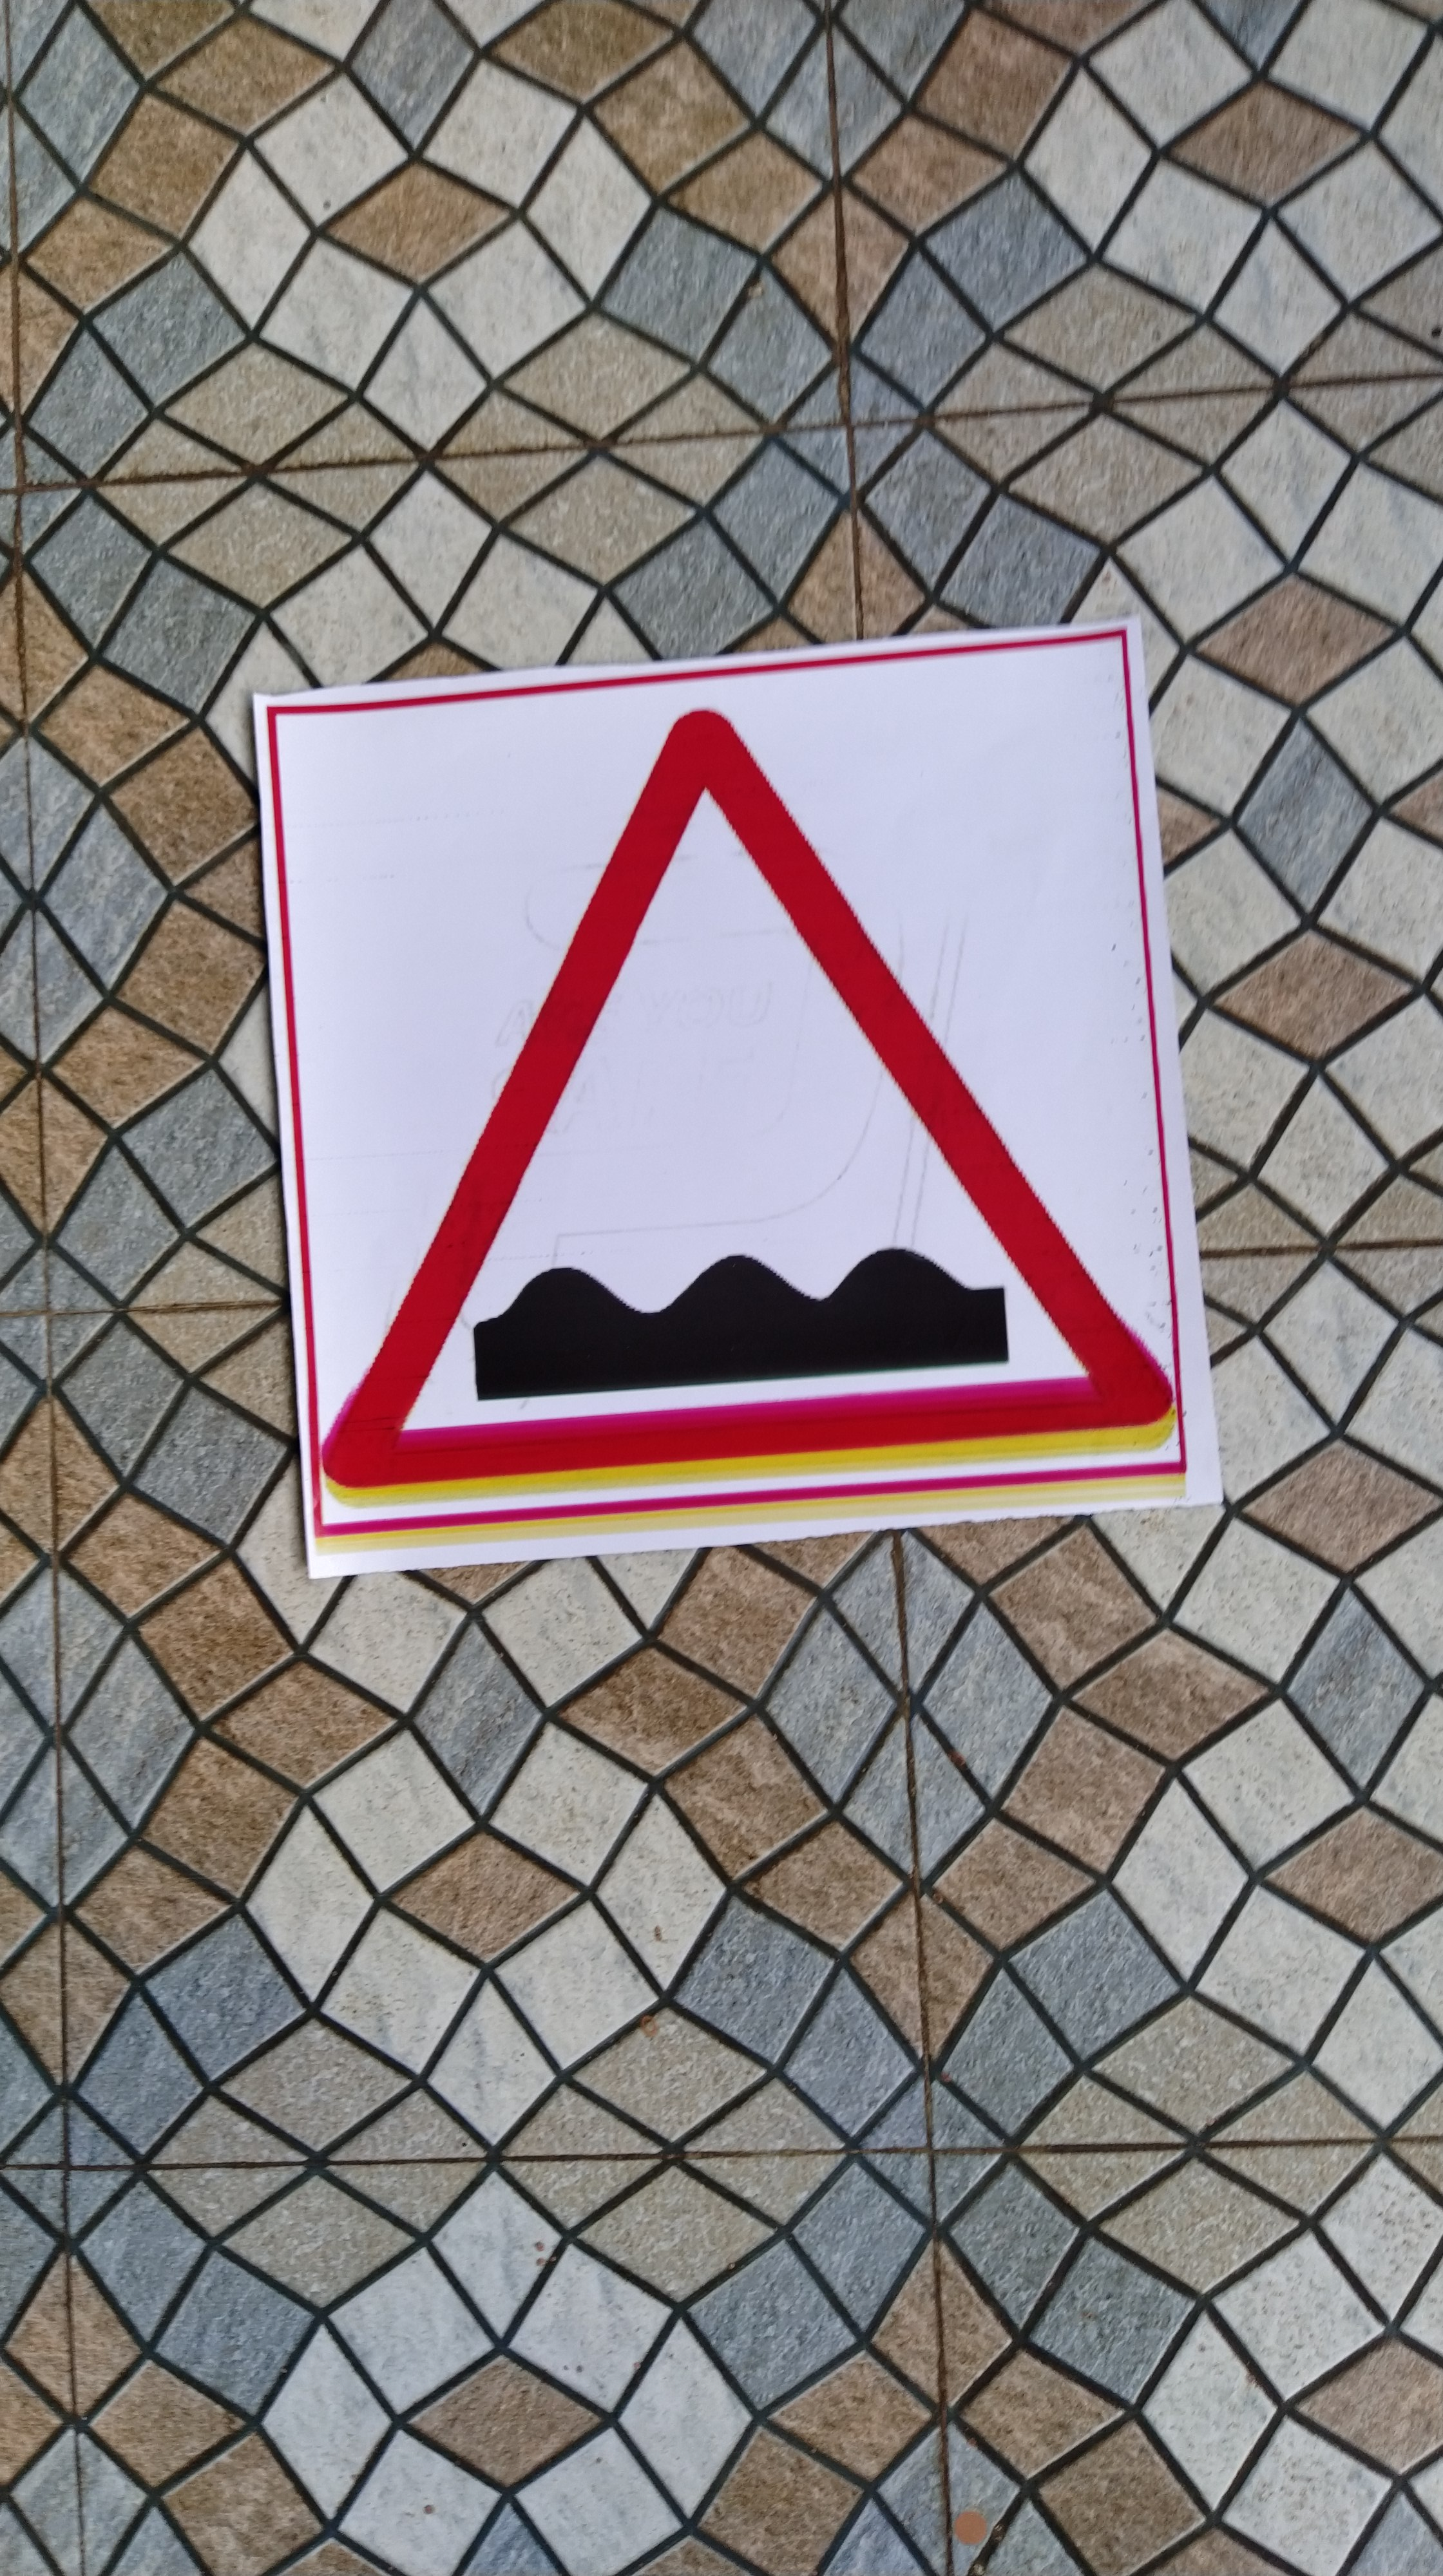speed breaker: (273, 690, 1206, 1511)
